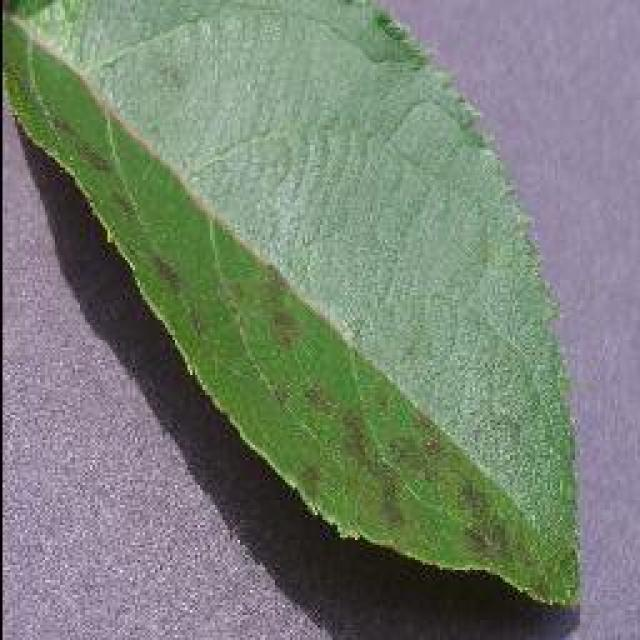apple scab disease: (0, 0, 585, 612)
